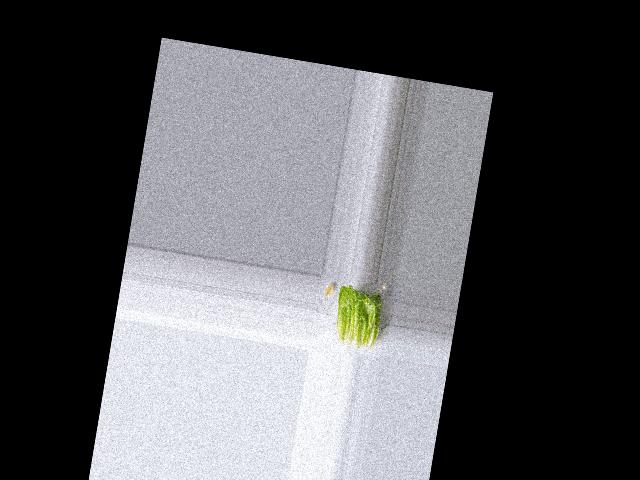lettuce: (328, 282, 387, 351)
